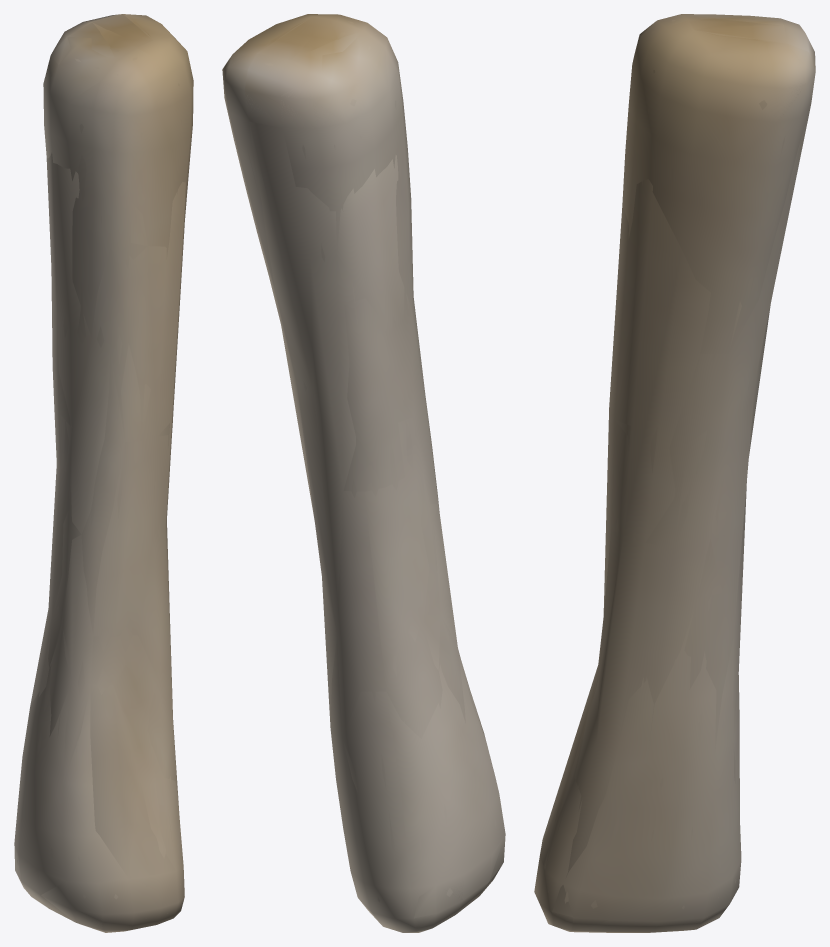
Rendered from L metatarsi secundum.fbx.
3 views of the same model, side by side, from view 1: azimuth 30°, elevation 25°; view 2: azimuth 150°, elevation 25°; view 3: azimuth 270°, elevation 25° (orthographic). The views are drawn at different scales.
Visible parts, largest first — view 1: L metatarsi secundum, L metatarsi secundum low, L metatarsi secundum high; view 2: L metatarsi secundum, L metatarsi secundum low, L metatarsi secundum high; view 3: L metatarsi secundum, L metatarsi secundum low, L metatarsi secundum high.
Part boxes in pixels (bbox=[...]): L metatarsi secundum: bbox=[14, 14, 193, 932]; L metatarsi secundum low: bbox=[15, 14, 190, 931]; L metatarsi secundum high: bbox=[17, 17, 189, 918]; L metatarsi secundum: bbox=[222, 14, 505, 932]; L metatarsi secundum low: bbox=[222, 14, 505, 932]; L metatarsi secundum high: bbox=[231, 21, 496, 922]; L metatarsi secundum: bbox=[534, 14, 815, 932]; L metatarsi secundum low: bbox=[540, 14, 810, 932]; L metatarsi secundum high: bbox=[547, 17, 797, 931].
Size of the model in its own units: 1.11 by 4.65 by 1.26.
